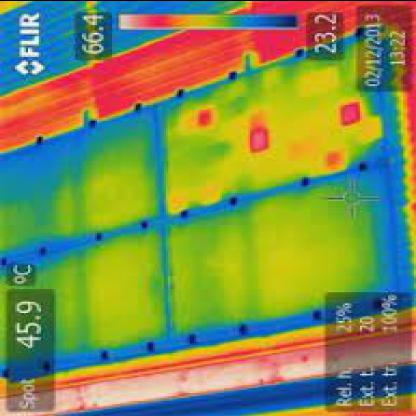Defects: (340, 99, 364, 128), (247, 122, 270, 152), (194, 108, 218, 126), (323, 149, 343, 168)
